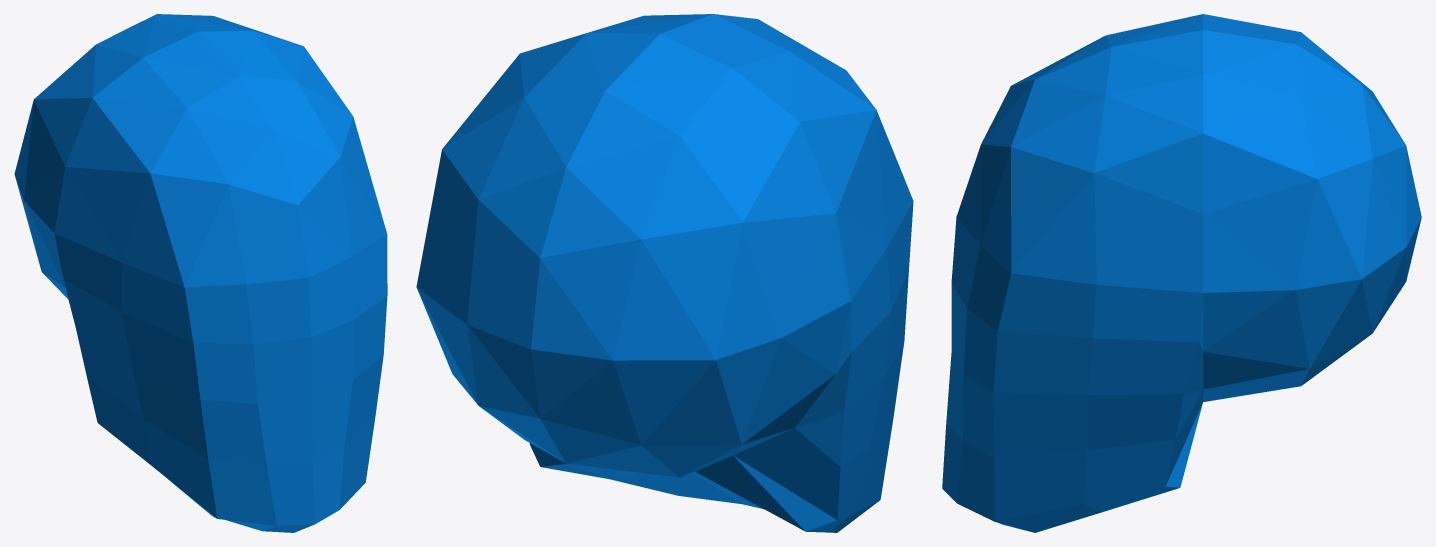
File: Avatar_head.fbx
The picture shows the model from 3 angles, left to right: view 1: azimuth 30°, elevation 25°; view 2: azimuth 150°, elevation 25°; view 3: azimuth 270°, elevation 25°; orthographic projection. The views are drawn at different scales.
Parts seen in each view (by area): view 1: Head; view 2: Head; view 3: Head.
Part boxes in pixels (left/top/right/bottom): Head: left=14, top=14, right=387, bottom=532; Head: left=416, top=14, right=913, bottom=532; Head: left=942, top=14, right=1421, bottom=532.
Bounding box in the file's own units: 56.26 × 81.74 × 73.23.
